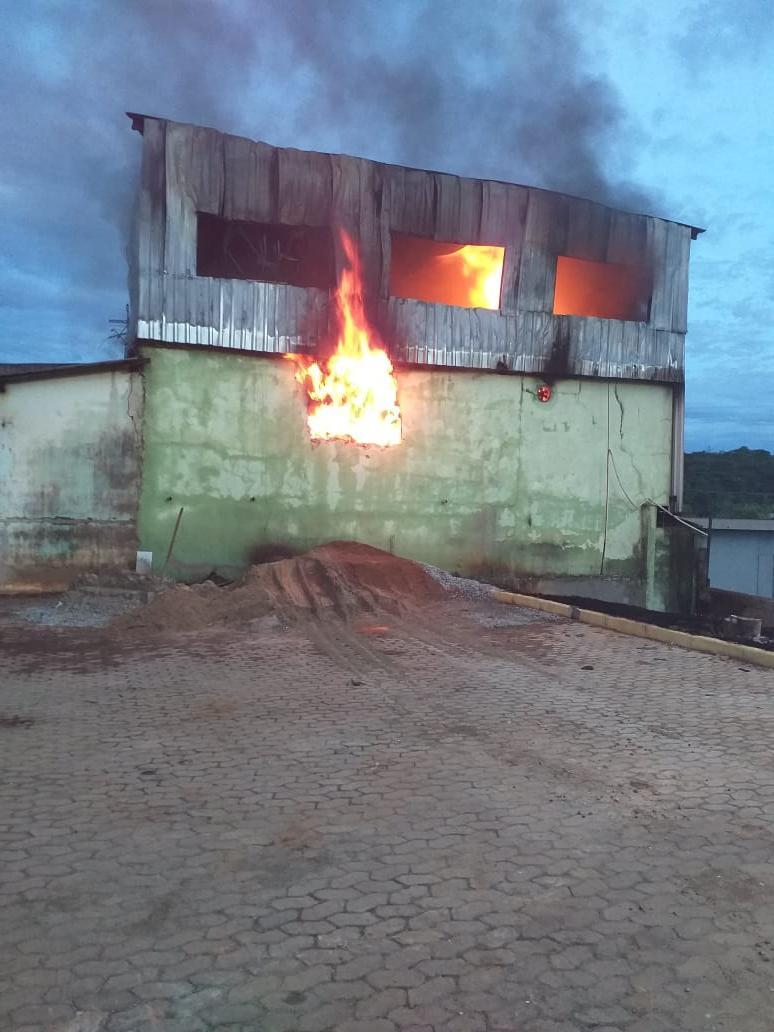Fire: (282, 228, 410, 448), (430, 246, 508, 309)
